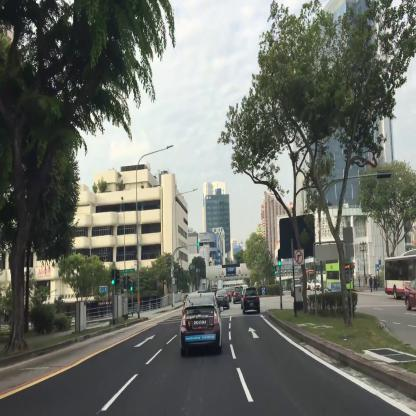green_traffic_light: (277, 250, 280, 264), (112, 270, 114, 284), (197, 242, 203, 246)
